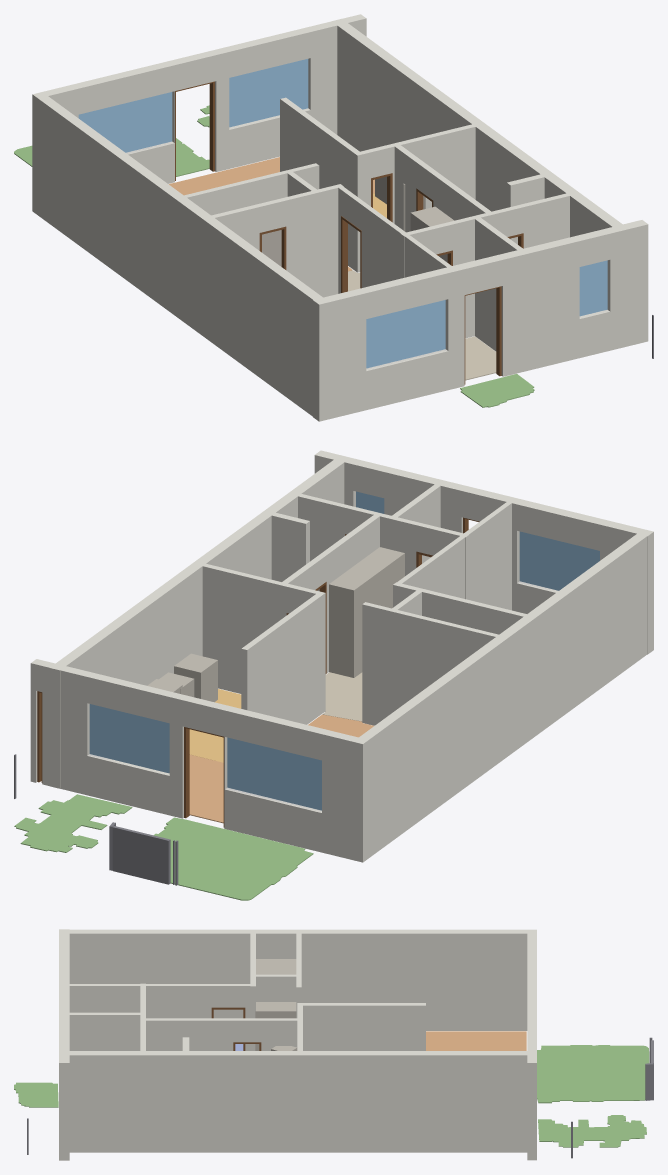
The picture shows the model from 3 angles, top to bottom: view 1: azimuth 30°, elevation 25°; view 2: azimuth 150°, elevation 25°; view 3: azimuth 270°, elevation 25°; orthographic projection. The views are drawn at different scales.
Visible parts, largest first — view 1: walls, window_0, window_4, window_3, floor_0_Living_Room, floor_10_Outdoor, window_5, floor_6_Entry, floor_8_Outdoor, door_1, furniture_2_closet, door_2 (+1 smaller); view 2: walls, floor_8_Outdoor, furniture_2_closet, window_3, window_4, floor_9_Outdoor, railings, window_0, floor_0_Living_Room, floor_2_Entry, furniture_5_appliance, floor_1_Kitchen (+1 smaller); view 3: walls, floor_8_Outdoor, floor_9_Outdoor, floor_0_Living_Room, furniture_0_closet, floor_10_Outdoor, railings.
Boxes of the visible parts, left/top/right/bottom form: walls: left=32, top=14, right=648, bottom=421; window_0: left=366, top=300, right=445, bottom=368; window_4: left=229, top=59, right=308, bottom=127; window_3: left=78, top=92, right=172, bottom=152; floor_0_Living_Room: left=169, top=157, right=374, bottom=271; floor_10_Outdoor: left=460, top=374, right=534, bottom=407; window_5: left=579, top=260, right=607, bottom=316; floor_6_Entry: left=465, top=336, right=496, bottom=380; floor_8_Outdoor: left=14, top=138, right=209, bottom=176; door_1: left=464, top=286, right=501, bottom=384; furniture_2_closet: left=410, top=206, right=453, bottom=262; door_2: left=175, top=81, right=214, bottom=180; walls: left=30, top=450, right=653, bottom=862; floor_8_Outdoor: left=154, top=817, right=313, bottom=900; furniture_2_closet: left=329, top=547, right=404, bottom=677; window_3: left=227, top=737, right=321, bottom=810; window_4: left=89, top=704, right=169, bottom=773; floor_9_Outdoor: left=14, top=794, right=132, bottom=852; railings: left=14, top=754, right=178, bottom=885; window_0: left=519, top=531, right=599, bottom=590; floor_0_Living_Room: left=189, top=714, right=373, bottom=823; floor_2_Entry: left=322, top=672, right=362, bottom=721; furniture_5_appliance: left=174, top=653, right=217, bottom=702; floor_1_Kitchen: left=189, top=689, right=241, bottom=762; walls: left=59, top=929, right=536, bottom=1160; floor_8_Outdoor: left=537, top=1045, right=649, bottom=1103; floor_9_Outdoor: left=538, top=1115, right=646, bottom=1147; floor_0_Living_Room: left=426, top=1031, right=526, bottom=1050; furniture_0_closet: left=255, top=959, right=296, bottom=1050; floor_10_Outdoor: left=14, top=1082, right=58, bottom=1107; railings: left=27, top=1037, right=653, bottom=1158.
Bounding box in the file's own units: 7.95 × 2.72 × 16.08.
